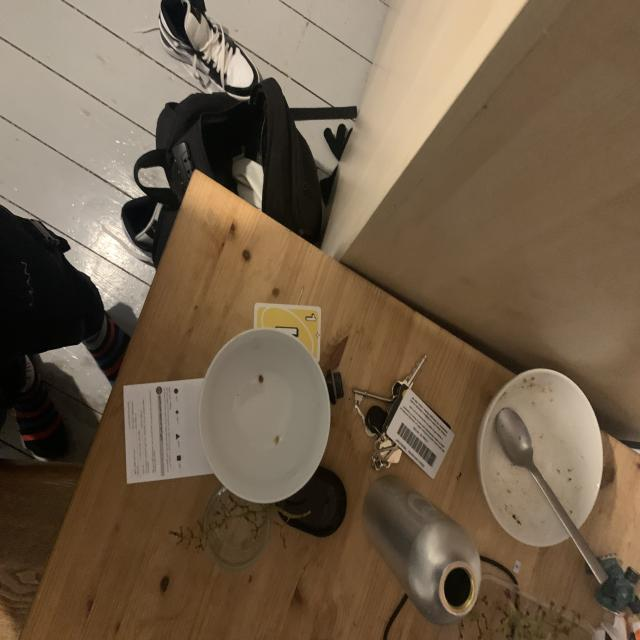lyellow-1: (304, 310, 318, 325)
